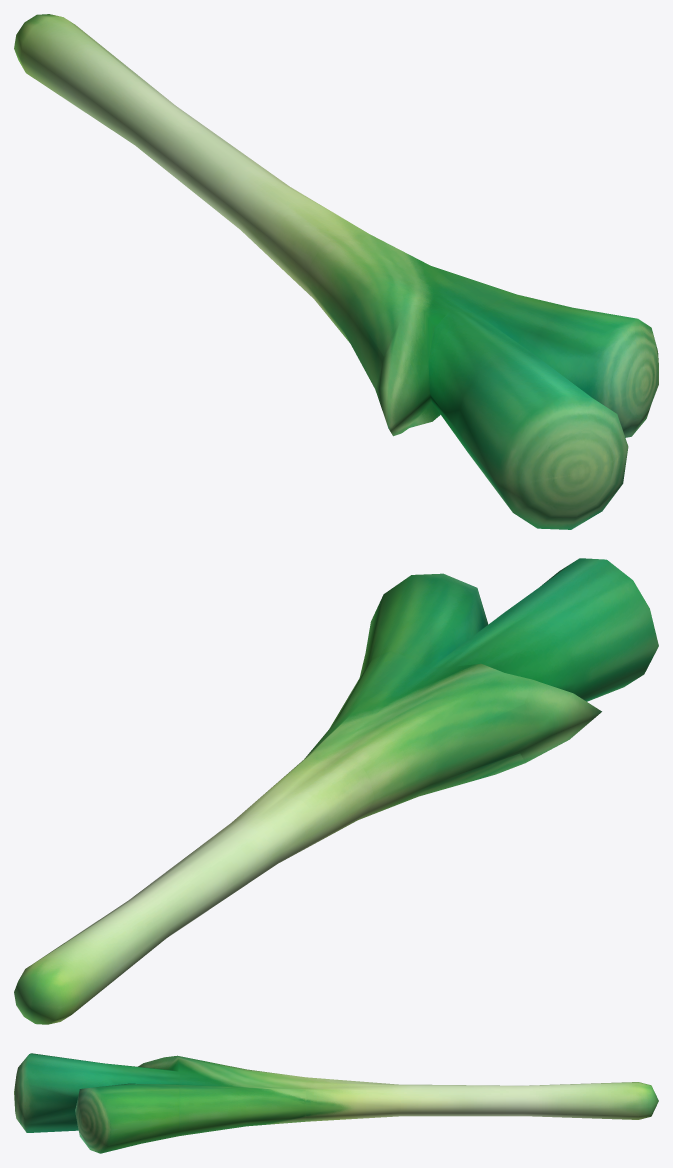
3 renders of one model, top to bottom at view 1: azimuth 30°, elevation 25°; view 2: azimuth 150°, elevation 25°; view 3: azimuth 270°, elevation 25°, orthographic. The views are drawn at different scales.
Parts seen in each view (by area): view 1: "Editable Poly"; view 2: "Editable Poly"; view 3: "Editable Poly".
Boxes of the visible parts, bbox=[...] form: "Editable Poly": bbox=[14, 14, 658, 529]; "Editable Poly": bbox=[14, 558, 658, 1024]; "Editable Poly": bbox=[14, 1053, 658, 1153].
Size of the model in its own units: 0.3543 by 0.1791 by 1.39.
